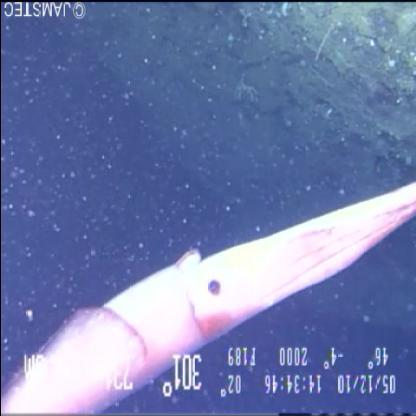Bio: (1, 179, 415, 415)
